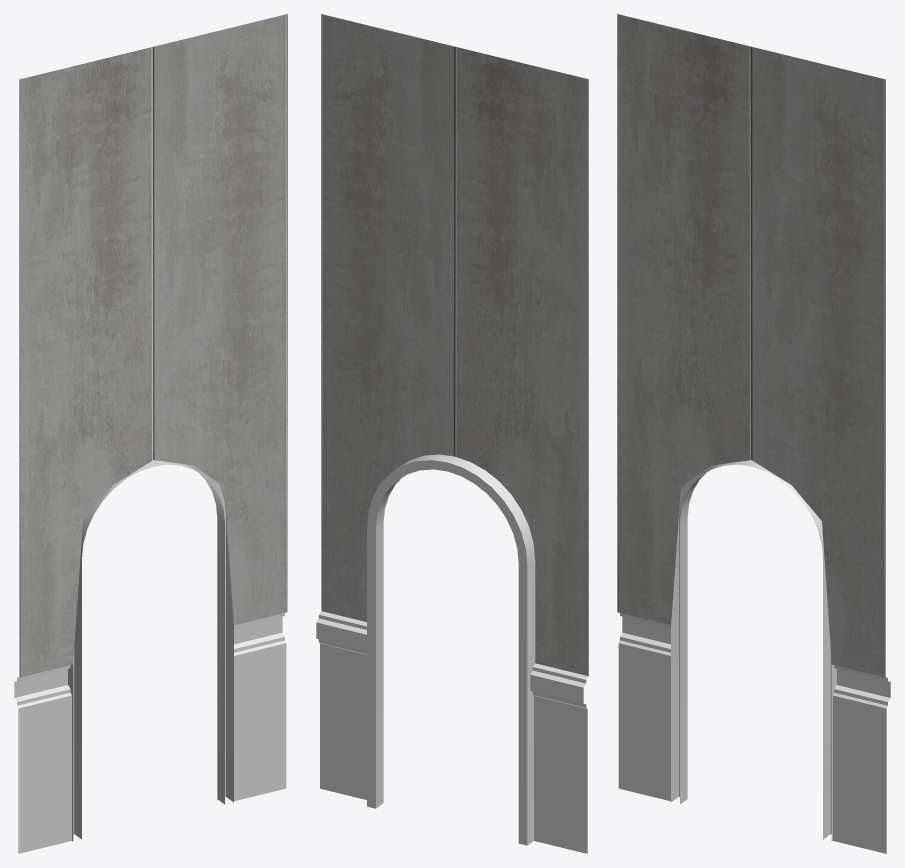
Rendered from S_Doorway.fbx.
3 renders of one model, left to right at view 1: azimuth 30°, elevation 25°; view 2: azimuth 150°, elevation 25°; view 3: azimuth 330°, elevation 25°, orthographic.
Visible parts, largest first — view 1: Plane.000; view 2: Plane.000; view 3: Plane.000.
Part boxes in pixels (x1,y1,x2,y2): Plane.000: (14,14,287,853); Plane.000: (316,14,588,853); Plane.000: (617,14,890,853).
Bounding box in the file's own units: 400 × 1106 × 20.
